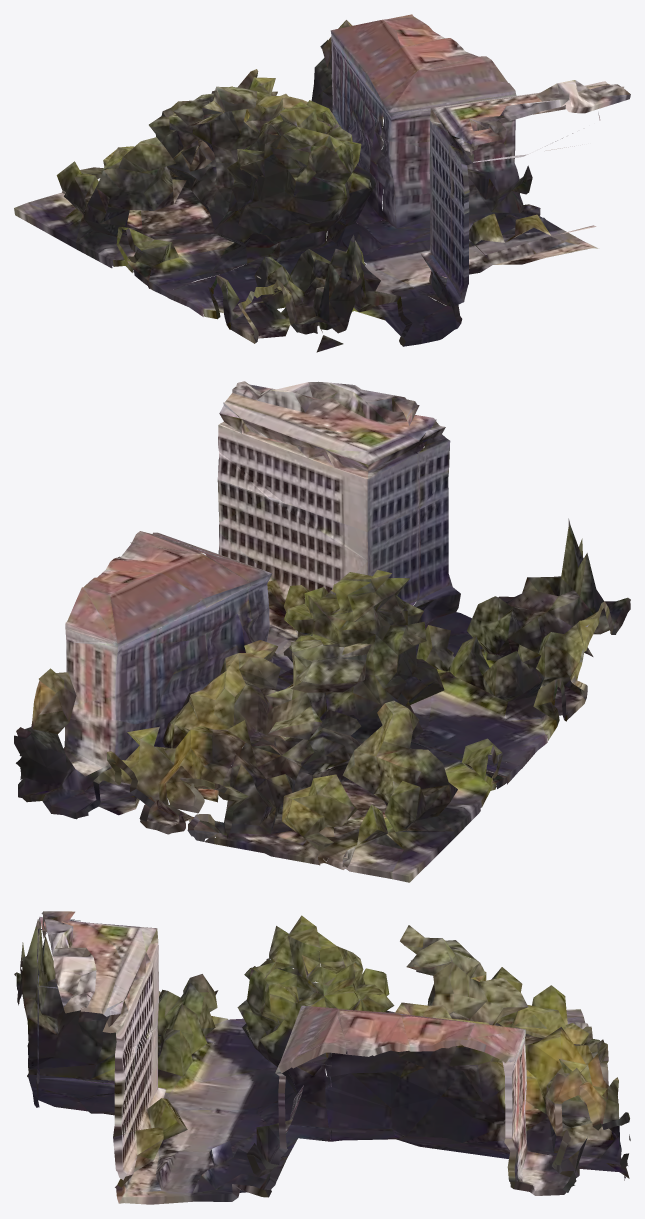
3 views of the same model, one above another, from view 1: azimuth 30°, elevation 25°; view 2: azimuth 150°, elevation 25°; view 3: azimuth 270°, elevation 25° (orthographic). The views are drawn at different scales.
Visible parts, largest first — view 1: Mesh_0; view 2: Mesh_0; view 3: Mesh_0.
Boxes of the visible parts, x1,y1,x2,y2 form: Mesh_0: [14, 14, 630, 352]; Mesh_0: [14, 381, 630, 882]; Mesh_0: [14, 911, 630, 1204].
Size of the model in its own units: 66.57 by 35.32 by 82.74.
Materials: 1 (1 with a texture image).
